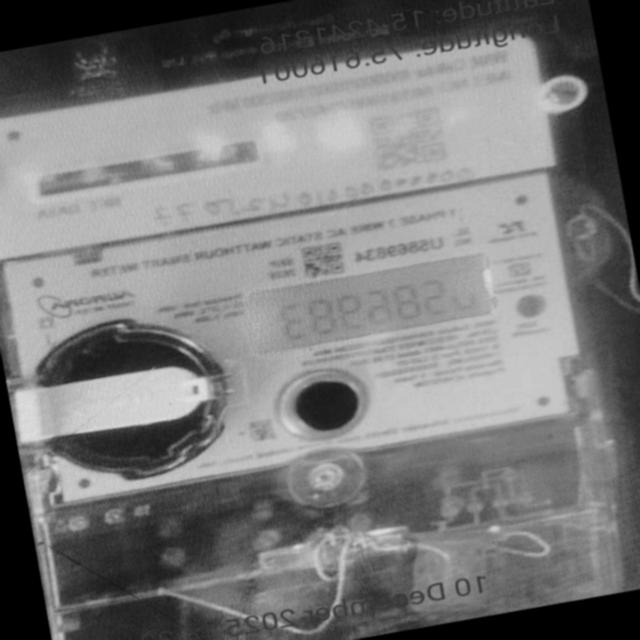meter: (0, 23, 602, 508)
